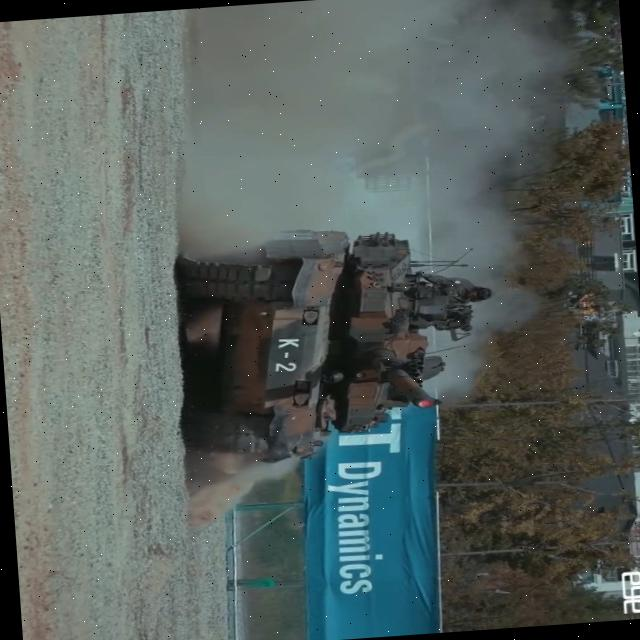korea tank: (165, 212, 506, 472)
